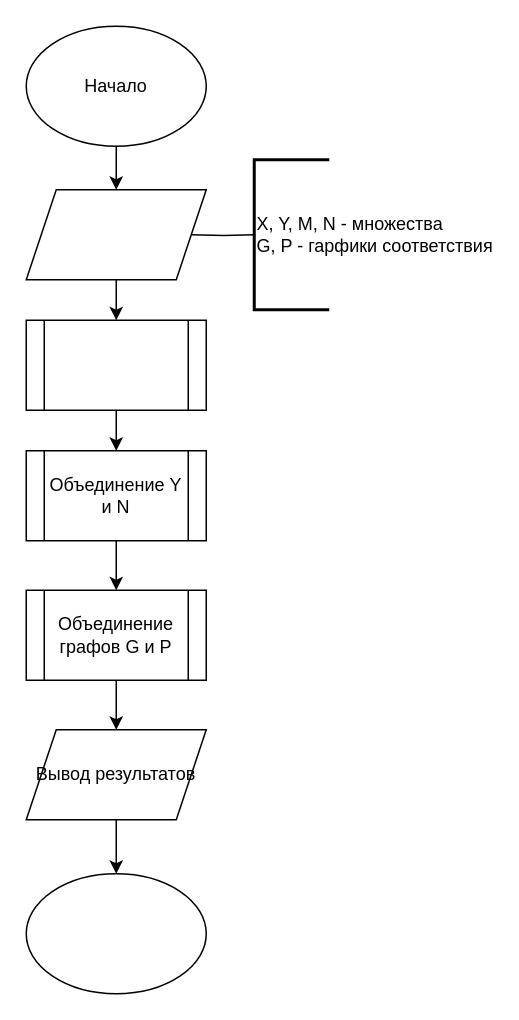
This 519x1020 diagram has some shape labels left out. The centre of each missing label's shape, as x and y in pixels:
Ввод X, Y, G, M, N, P: pixel 115 234
Конец: pixel 115 933
Объединение X и M: pixel 115 364
